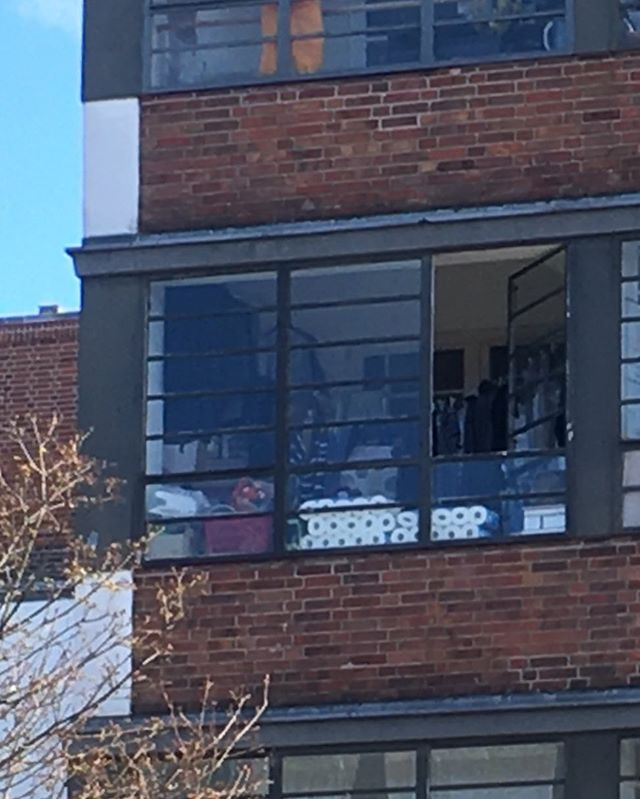building: (104, 1, 640, 787)
window: (143, 235, 571, 552)
